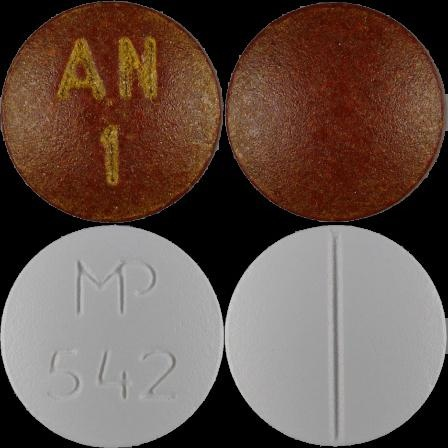50436-4388: (0, 0, 224, 224)
